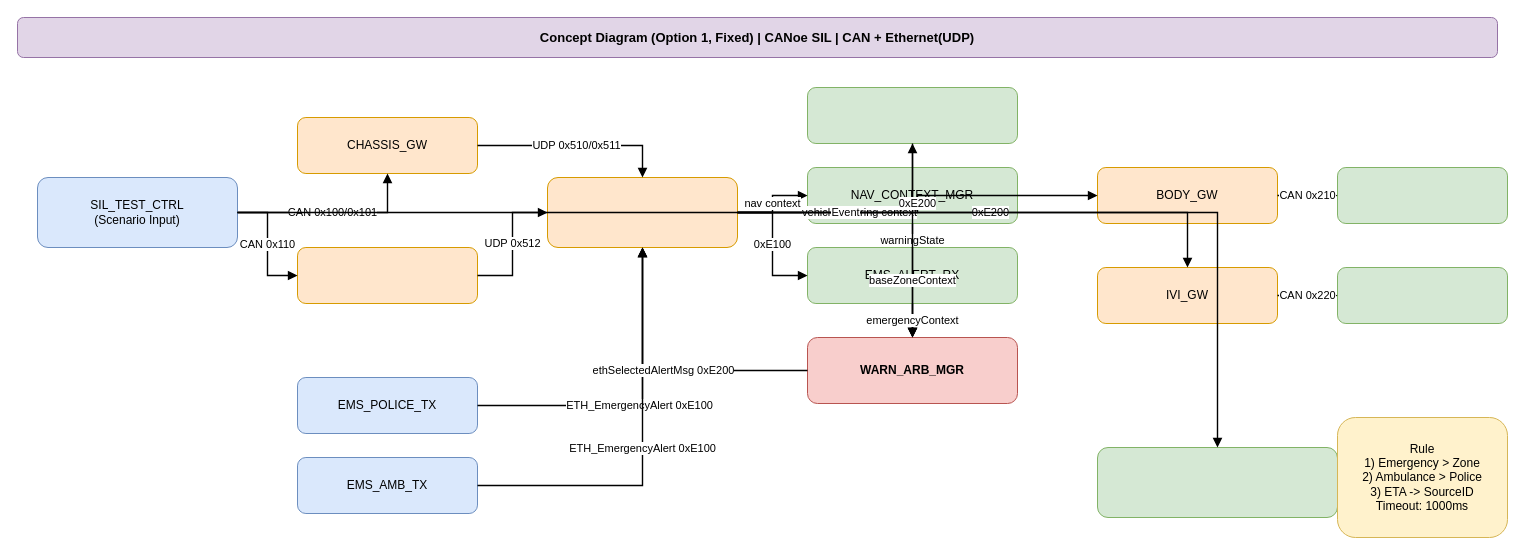
Some shapes in this 1525 by 555 pixel diagram are drawn without their labels. The box of each missing label's shape, as (x1, y1, x2, y2) in pixels:
ADAS_WARN_CTRL: (806, 86, 1018, 144)
BCM_AMBIENT_CTRL: (1336, 166, 1508, 224)
CLU_HMI_CTRL: (1336, 266, 1508, 324)
ETH_SWITCH: (546, 176, 738, 248)
INFOTAINMENT_GW: (296, 246, 478, 304)
Test Result frmTestResultMsg 0x230: (1096, 446, 1338, 518)
